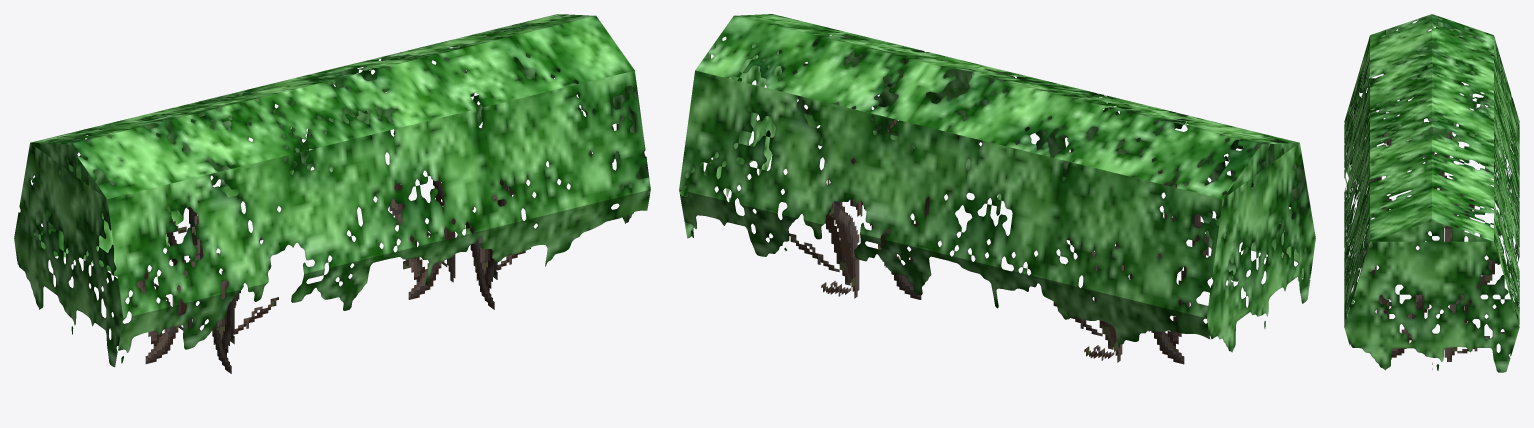
The model's file is bush_long_roots_spring.fbx.
3 renders of one model, left to right at view 1: azimuth 30°, elevation 25°; view 2: azimuth 150°, elevation 25°; view 3: azimuth 270°, elevation 25°, orthographic. The views are drawn at different scales.
Visible parts, largest first — view 1: bush_long_roots_spring; view 2: bush_long_roots_spring; view 3: bush_long_roots_spring.
Part boxes in pixels (x1=…): bush_long_roots_spring: x1=14, y1=14, x2=650, y2=373; bush_long_roots_spring: x1=679, y1=14, x2=1315, y2=364; bush_long_roots_spring: x1=1344, y1=14, x2=1519, y2=372.
Size of the model in its own units: 201 by 87.65 by 71.91.
2 materials, 2 textured.
